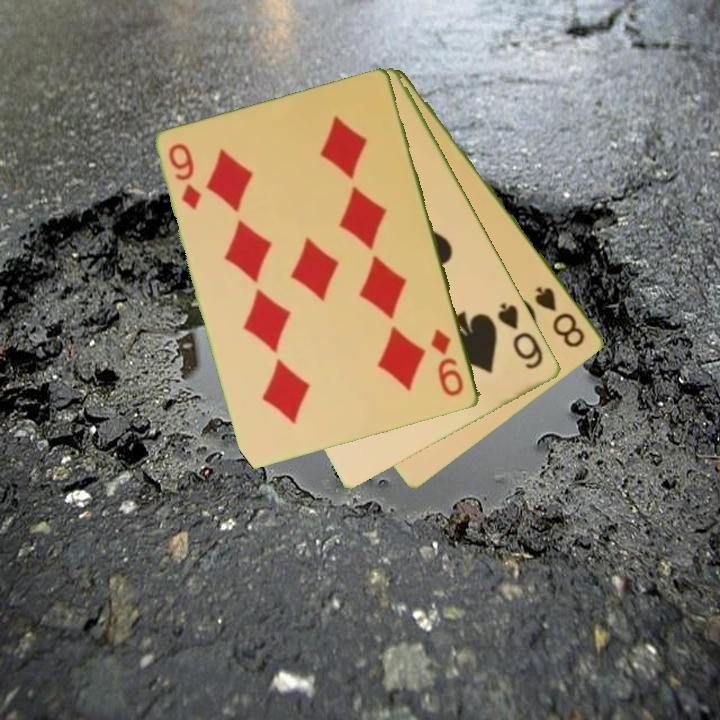6s: (494, 299, 547, 373)
8s: (532, 282, 589, 351)
9d: (428, 325, 467, 400), (165, 140, 205, 213)
